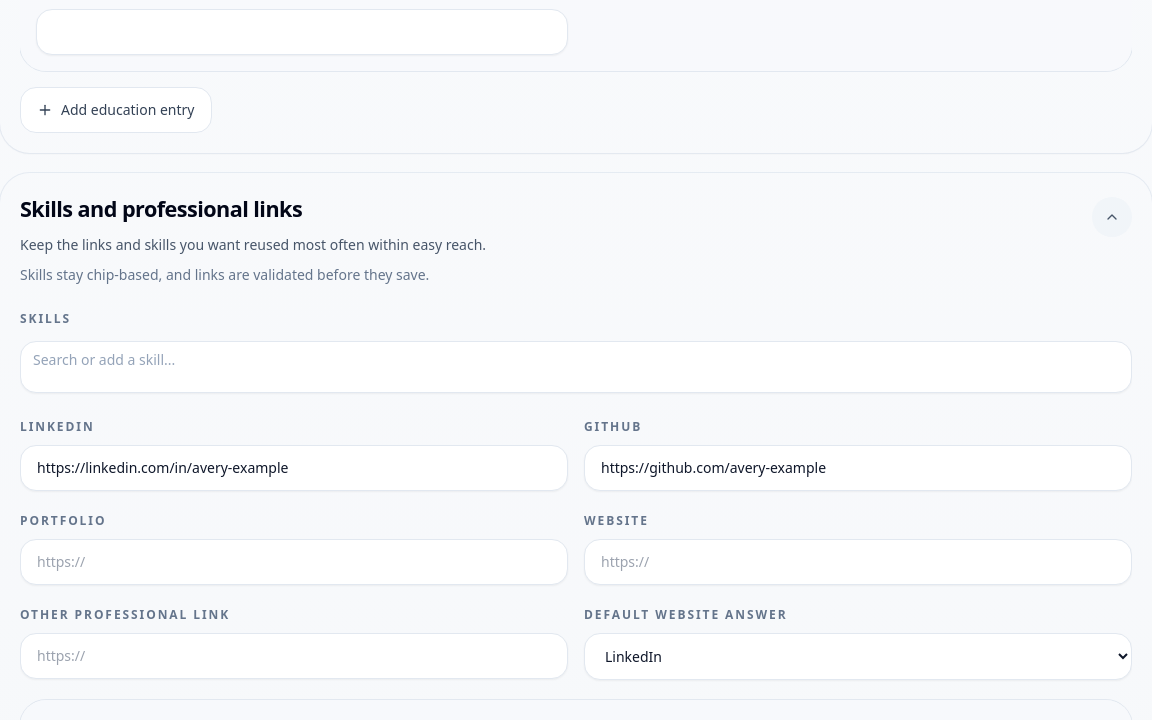
skills chips and link validation work without exposing internal values
(page scrolled)
Type "GraphQL" into the dropdown with placeholder "Search or add a skill...".
click(576, 360); type("GraphQL")  # box [33,350,1119,370]
Then press Enter
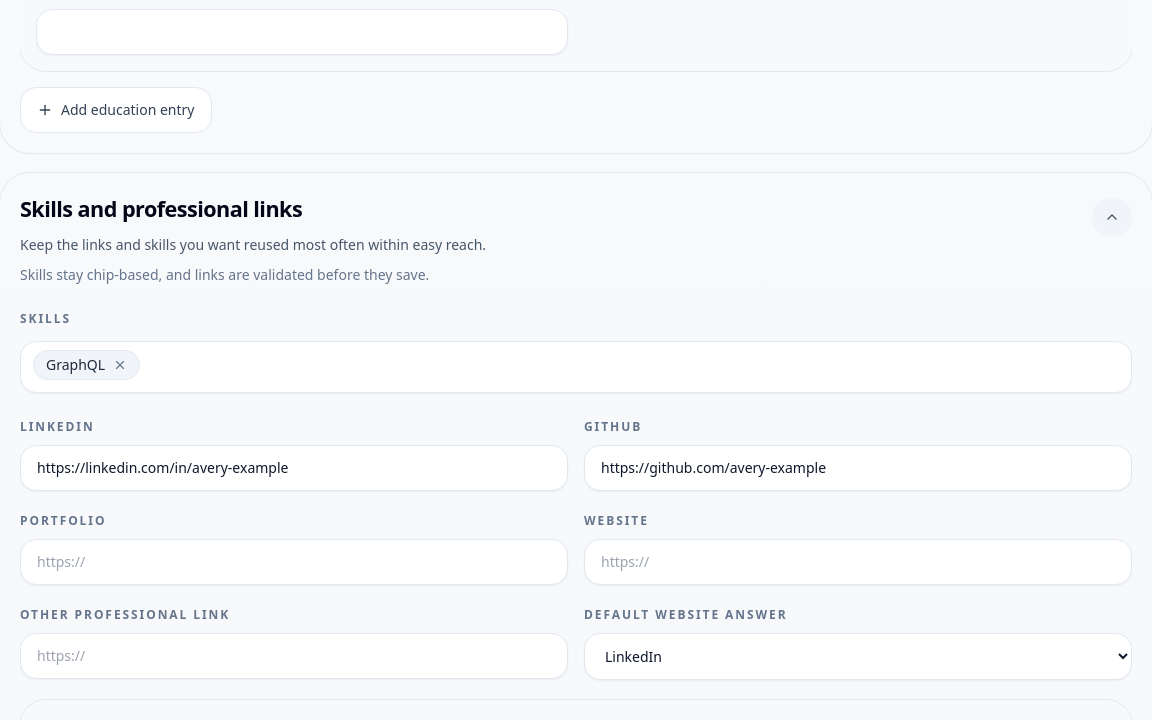
Result: the text "GraphQL" is shown at [33,350,140,380]
Replace the text in the field with placeholder "github.com/your-name" below "GitHub" with "https://gitlab.com/avery" at (858, 468), box [584,445,1132,491]
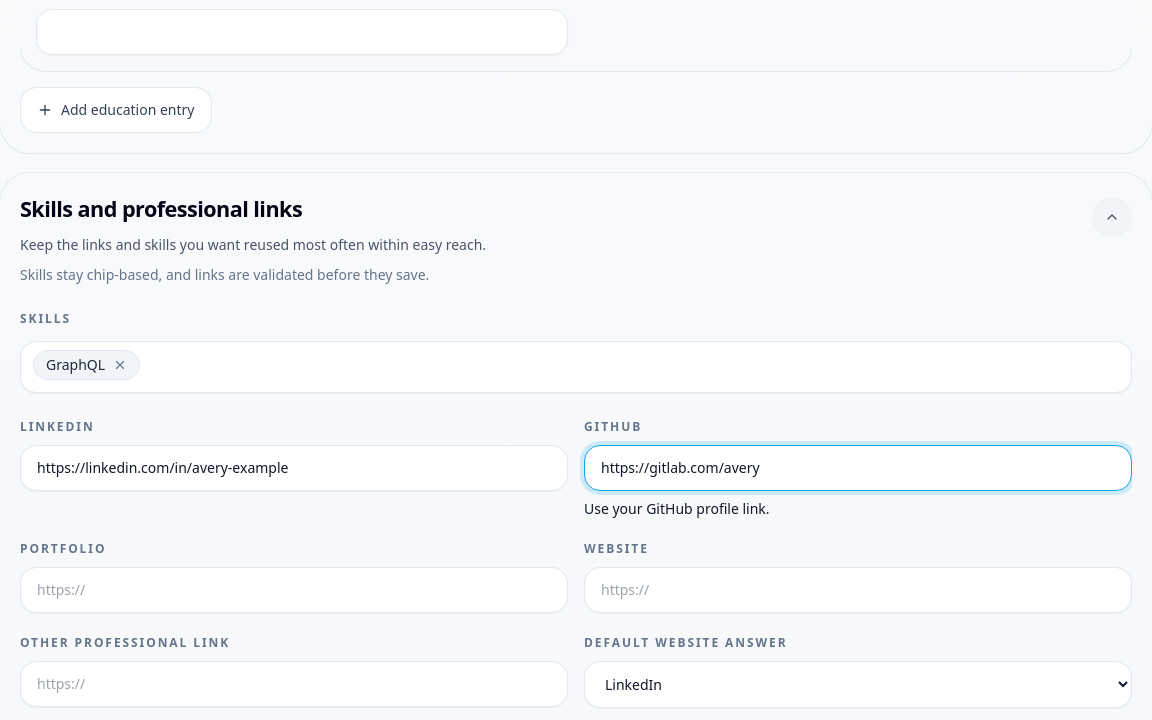
Result: the text "Use your GitHub profile link." is shown at [584,499,770,518]
